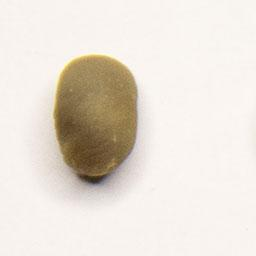peaberry: (49, 50, 143, 188)
